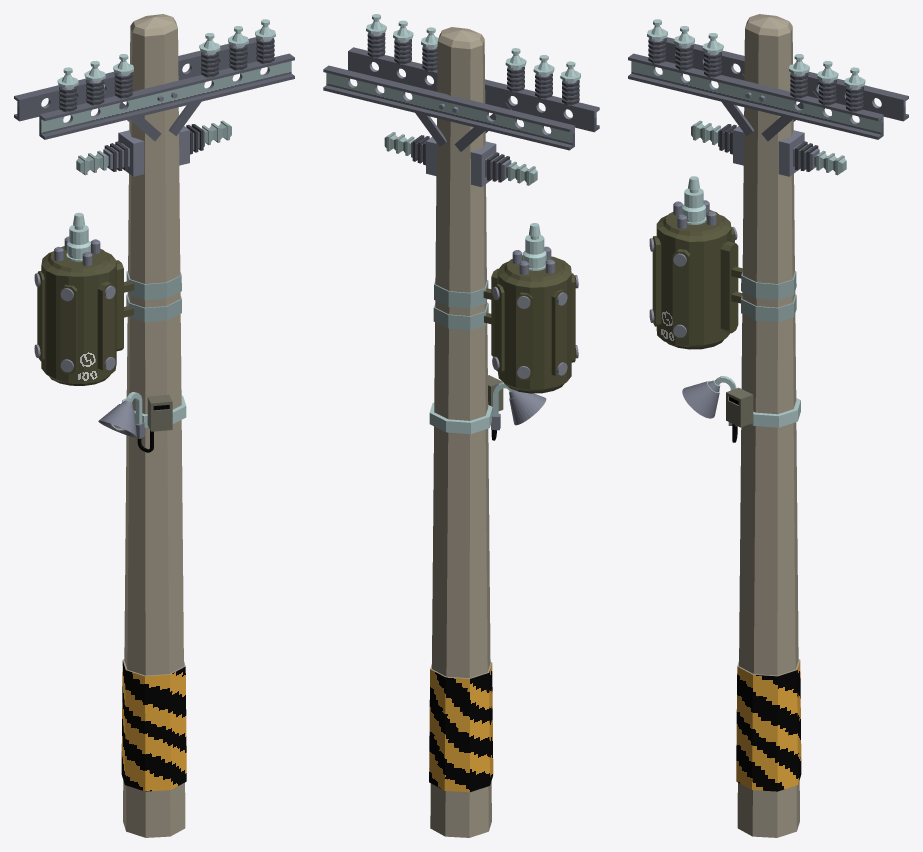
File: kern_lamp.gltf
3 renders of one model, left to right at view 1: azimuth 30°, elevation 25°; view 2: azimuth 150°, elevation 25°; view 3: azimuth 330°, elevation 25°, orthographic.
Visible parts, largest first — view 1: Lamp, Transformer, Lamplight; view 2: Lamp, Transformer, Lamplight; view 3: Lamp, Transformer, Lamplight.
Boxes of the visible parts, left/top/right/bottom form: Lamp: left=14, top=14, right=294, bottom=837; Transformer: left=34, top=212, right=134, bottom=385; Lamplight: left=98, top=392, right=172, bottom=452; Lamp: left=323, top=14, right=599, bottom=837; Transformer: left=483, top=223, right=578, bottom=393; Lamplight: left=488, top=375, right=546, bottom=440; Lamp: left=628, top=14, right=908, bottom=837; Transformer: left=649, top=176, right=742, bottom=349; Lamplight: left=682, top=376, right=753, bottom=442.
Size of the model in its own units: 2.85 by 8.78 by 0.9862.
1 material, 1 textured.
